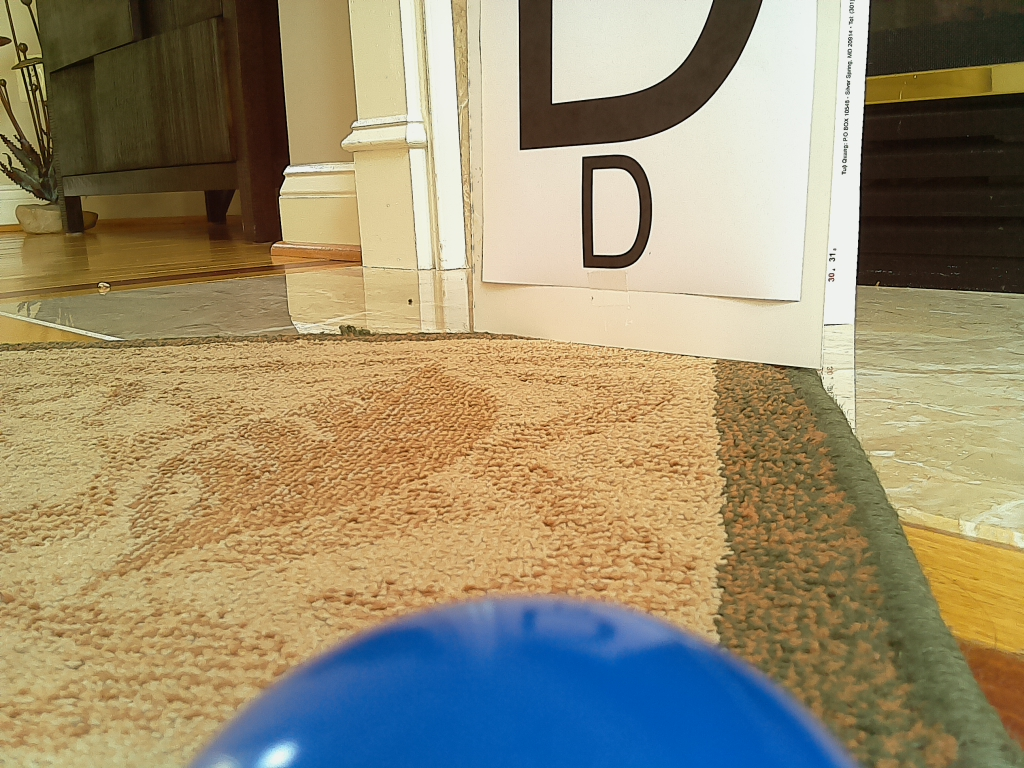letter: (584, 153, 653, 269)
